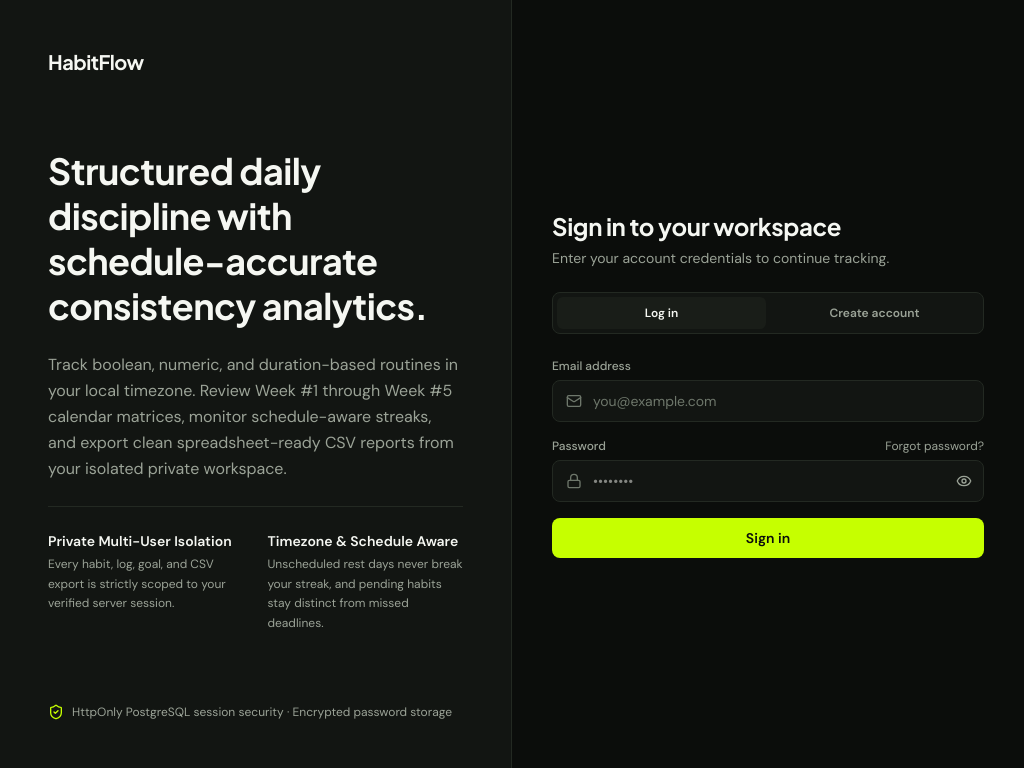
Frontend UI & Accessibility Verification › switches AuthPage between Login and Create Account modes and displays live password criteria
This screenshot has width=1024, height=768.
expect the heading "Sign in to your workspace" is shown: met, box [552, 211, 841, 241]
Attempt login and verify server error banner renders cleanly
Type "wrong@example.com" into the field labelled "Email address" at (768, 401), box [552, 380, 984, 422]
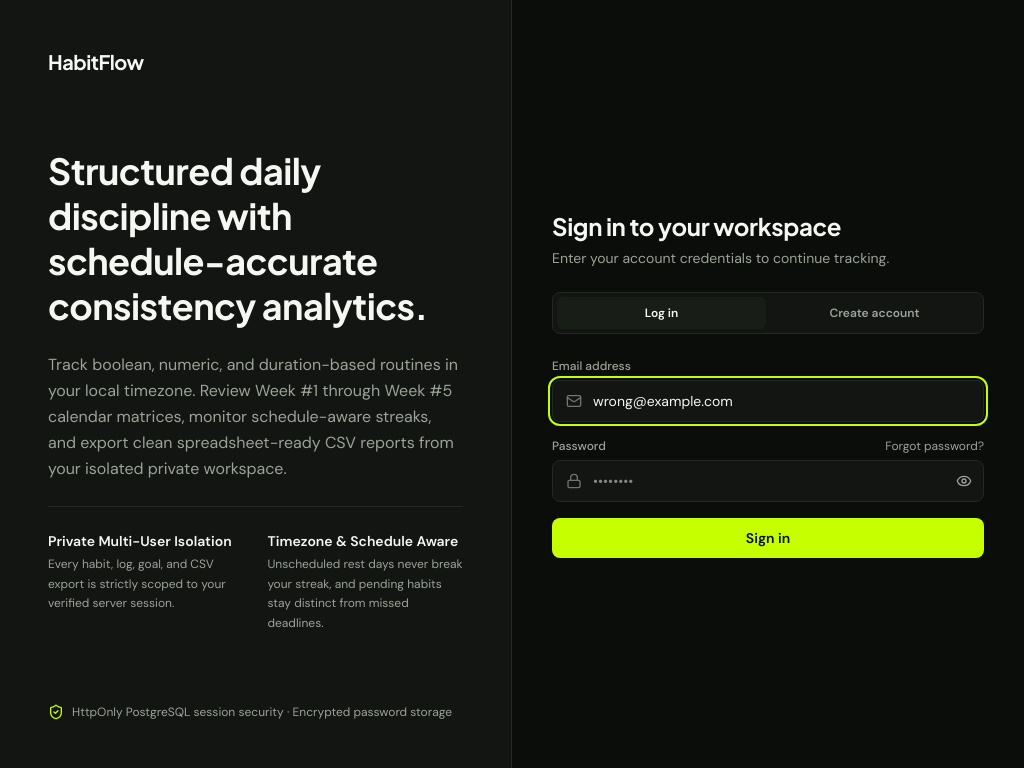
Type "WrongPass123" into the password field labelled "Password" at (768, 481), box [552, 460, 984, 502]
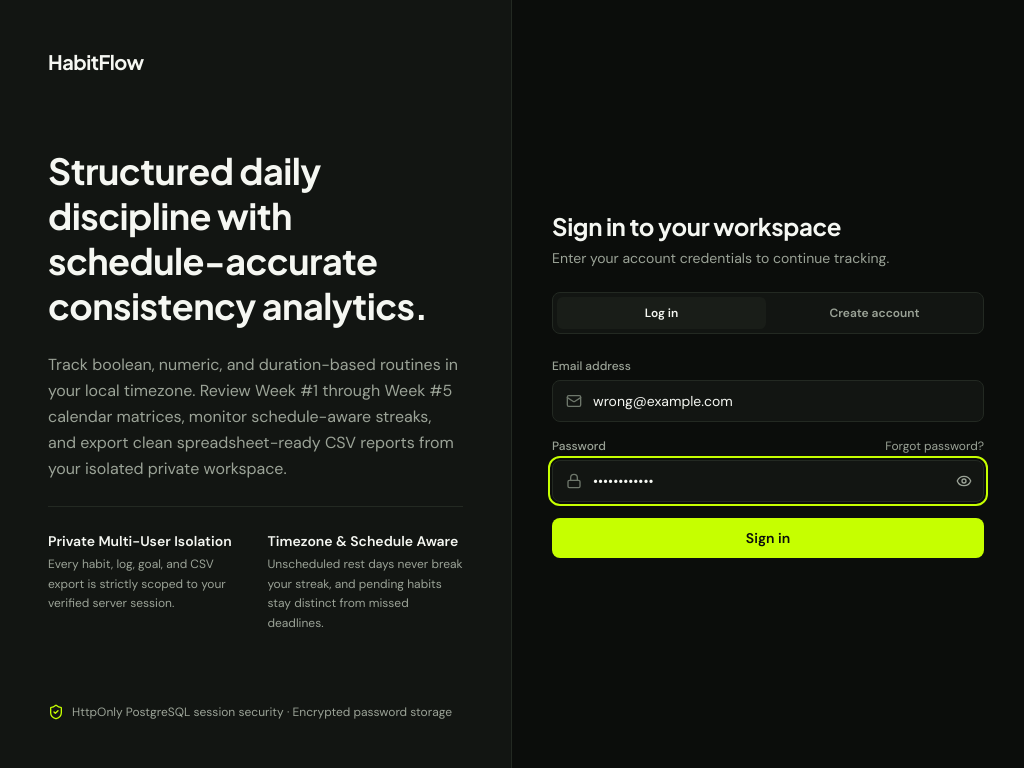
Click the button "Sign in" at (768, 538), box [552, 518, 984, 558]
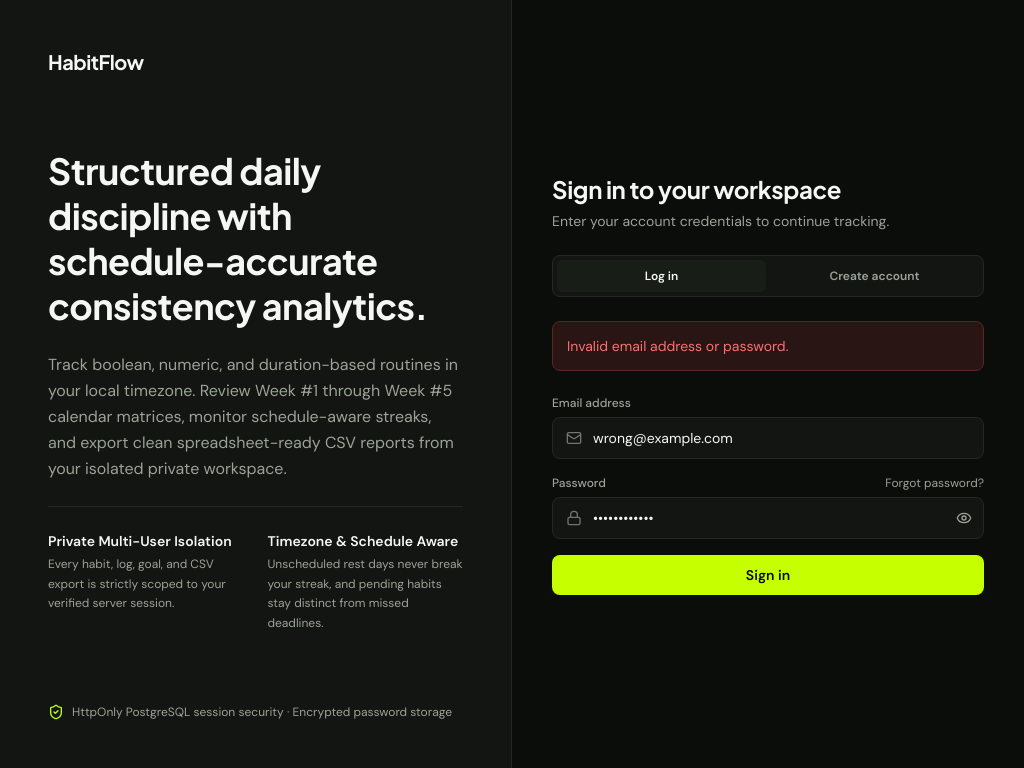
expect the message shows "Invalid email address or password": met, box [567, 337, 788, 355]
Switch to Create account tab
Click the button "Create account" at (874, 276), box [770, 260, 979, 292]
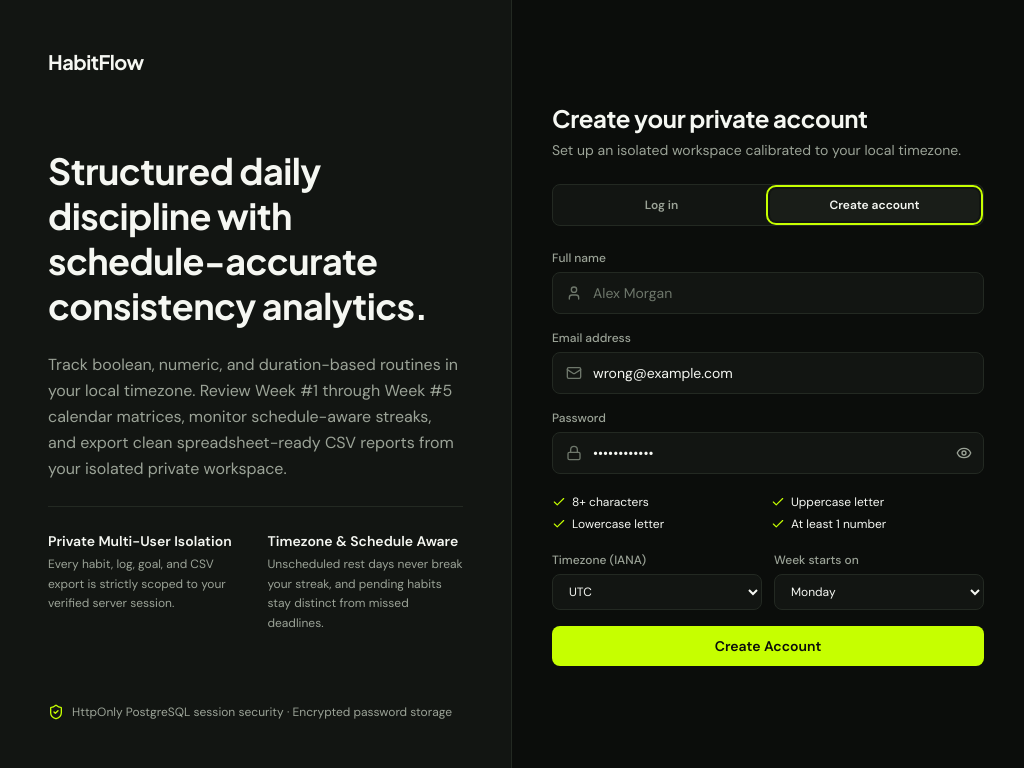
expect the heading "Create your private account" is shown: met, box [552, 103, 868, 133]
expect the field labelled "Full name" is shown: met, box [552, 272, 984, 314]
expect the dropdown labelled "Timezone (IANA)" is shown: met, box [552, 574, 762, 610]
